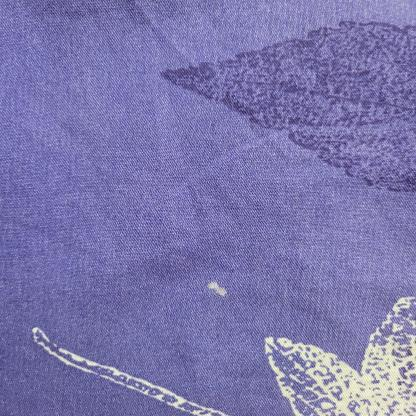spot: (205, 277, 231, 297)
